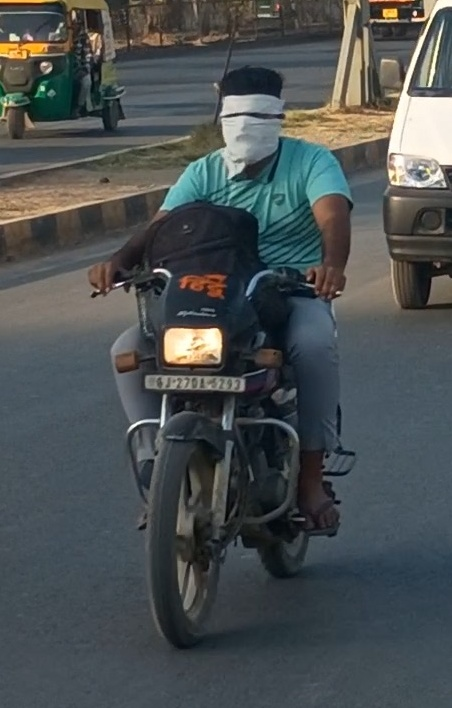BikeWithRider: (78, 57, 366, 657)
NoHelmet: (206, 58, 297, 168)
